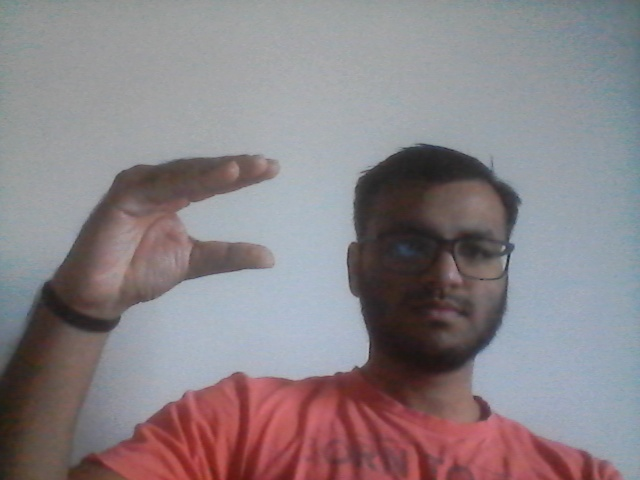No: (61, 149, 293, 300)
